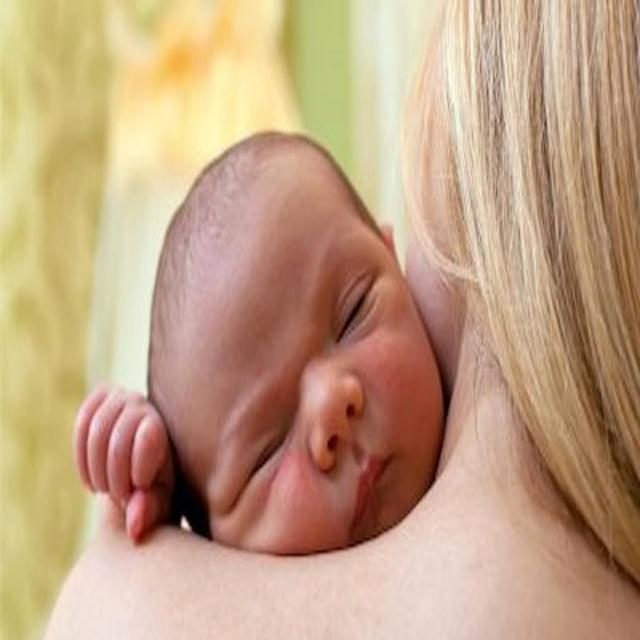adult: (38, 4, 640, 640)
child: (74, 125, 446, 542)
